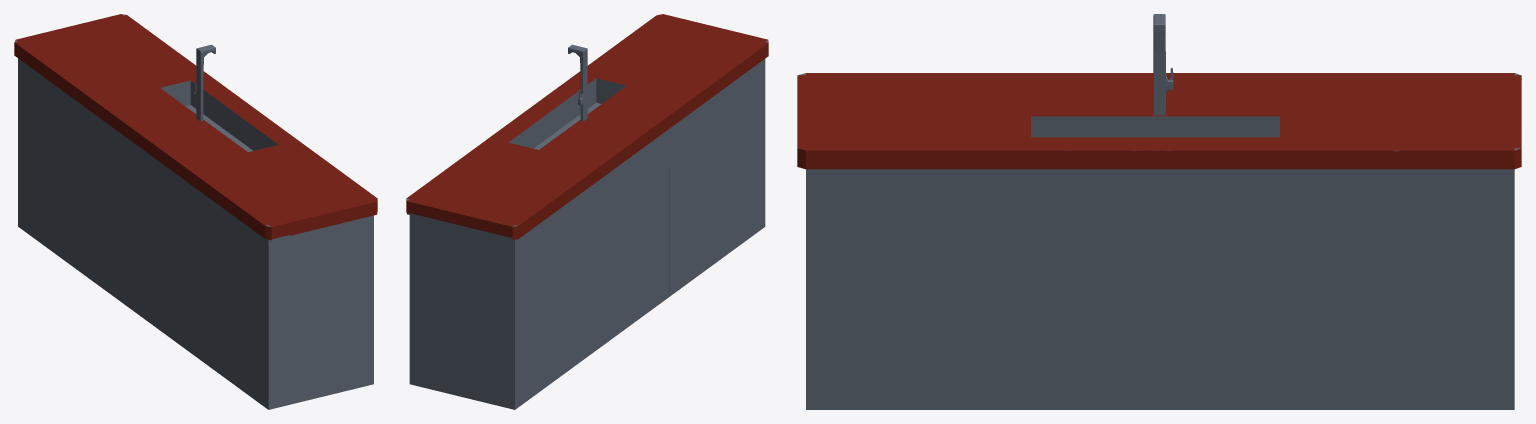
Rendered from CounterSink.fbx.
3 views of the same model, side by side, from view 1: azimuth 30°, elevation 25°; view 2: azimuth 150°, elevation 25°; view 3: azimuth 270°, elevation 25° (orthographic). The views are drawn at different scales.
Parts seen in each view (by area): view 1: Sink; view 2: Sink; view 3: Sink.
Boxes of the visible parts, x1,y1,x2,y2 form: Sink: (14, 14, 377, 409); Sink: (406, 14, 768, 409); Sink: (797, 14, 1521, 409).
Size of the model in its own units: 309 by 672 by 1220.
1 material, 1 textured.
